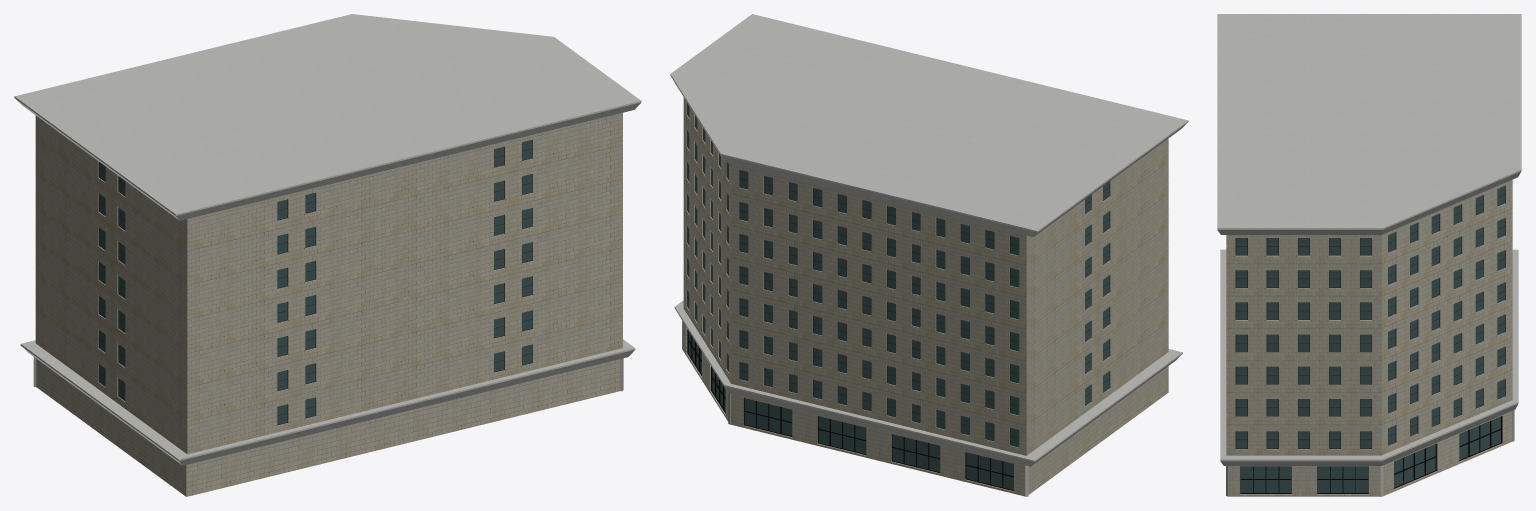
Rendered from StoneBuilding.glb.
The picture shows the model from 3 angles, left to right: view 1: azimuth 30°, elevation 25°; view 2: azimuth 150°, elevation 25°; view 3: azimuth 270°, elevation 25°; orthographic projection. The views are drawn at different scales.
Parts seen in each view (by area): view 1: Plane.027; view 2: Plane.027; view 3: Plane.027.
Part boxes in pixels (box(x1,y1,x2,y2)): Plane.027: box(14, 14, 641, 496); Plane.027: box(670, 14, 1188, 496); Plane.027: box(1217, 14, 1521, 496).
Size of the model in its own units: 42.86 by 25.53 by 25.71.
3 materials, 3 textured.
